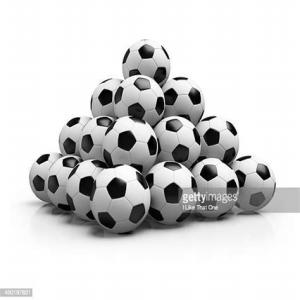Football: (95, 166, 149, 232), (144, 162, 198, 226), (106, 115, 157, 168), (192, 159, 238, 216), (68, 158, 106, 225), (233, 154, 275, 214), (160, 75, 209, 122), (117, 75, 163, 125), (120, 36, 170, 80), (195, 115, 242, 161), (158, 118, 199, 163), (28, 151, 63, 202), (90, 75, 126, 120), (57, 116, 92, 156)
